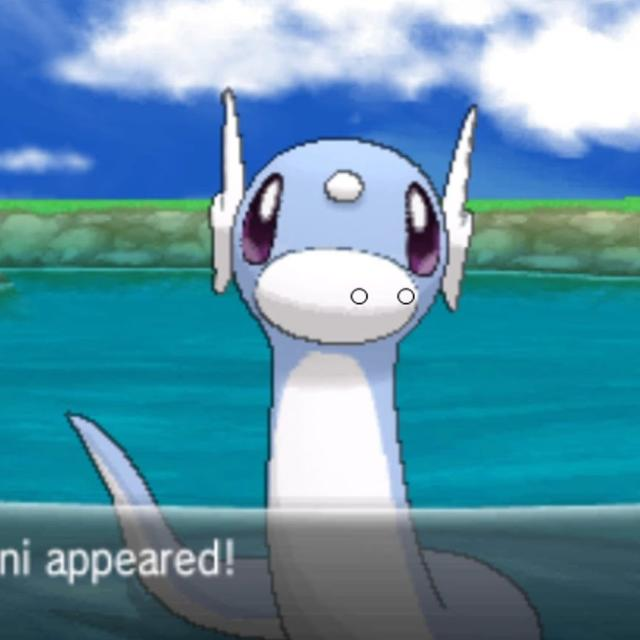Dratini: (82, 84, 549, 640)
